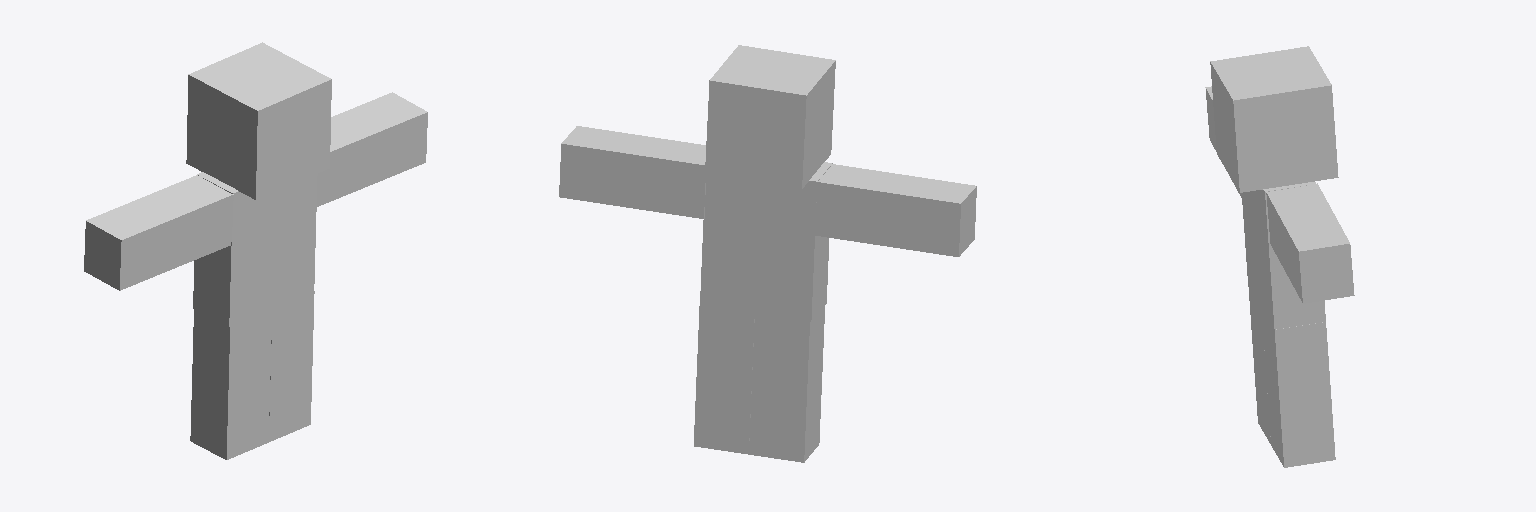
The model's file is char56.obj.
3 renders of one model, left to right at view 1: azimuth 30°, elevation 25°; view 2: azimuth 150°, elevation 25°; view 3: azimuth 270°, elevation 25°, orthographic.
Visible parts, largest first — view 1: mesh01; view 2: mesh01; view 3: mesh01.
Part boxes in pixels (x1,y1,x2,y2): mesh01: (84, 42, 427, 459); mesh01: (559, 45, 976, 462); mesh01: (1205, 46, 1354, 467).
Bounding box in the file's own units: 8.26 × 8.11 × 2.94.